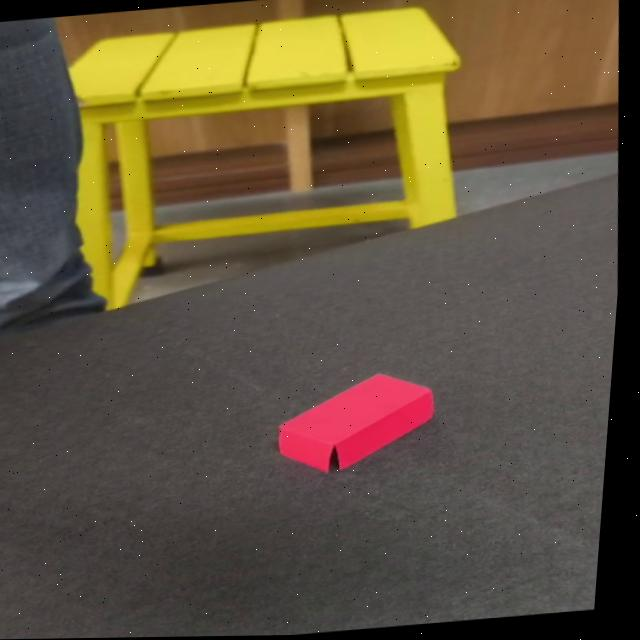red block: (269, 367, 441, 476)
